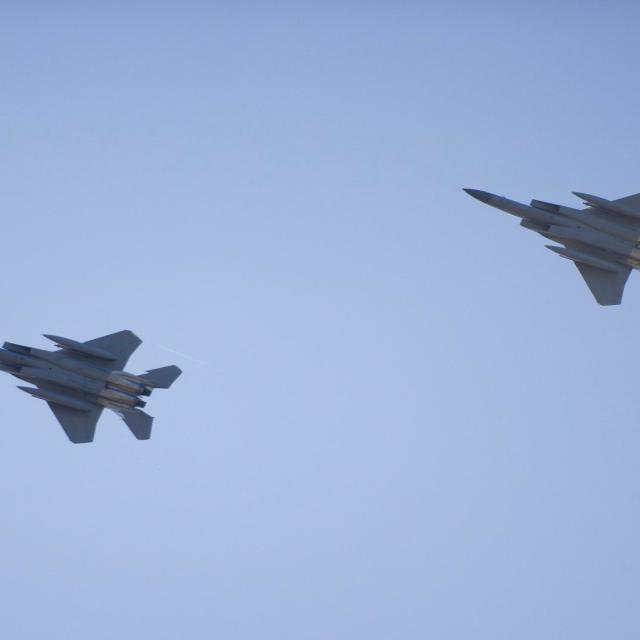MIL_Plane: (461, 188, 640, 306), (1, 329, 183, 443)
